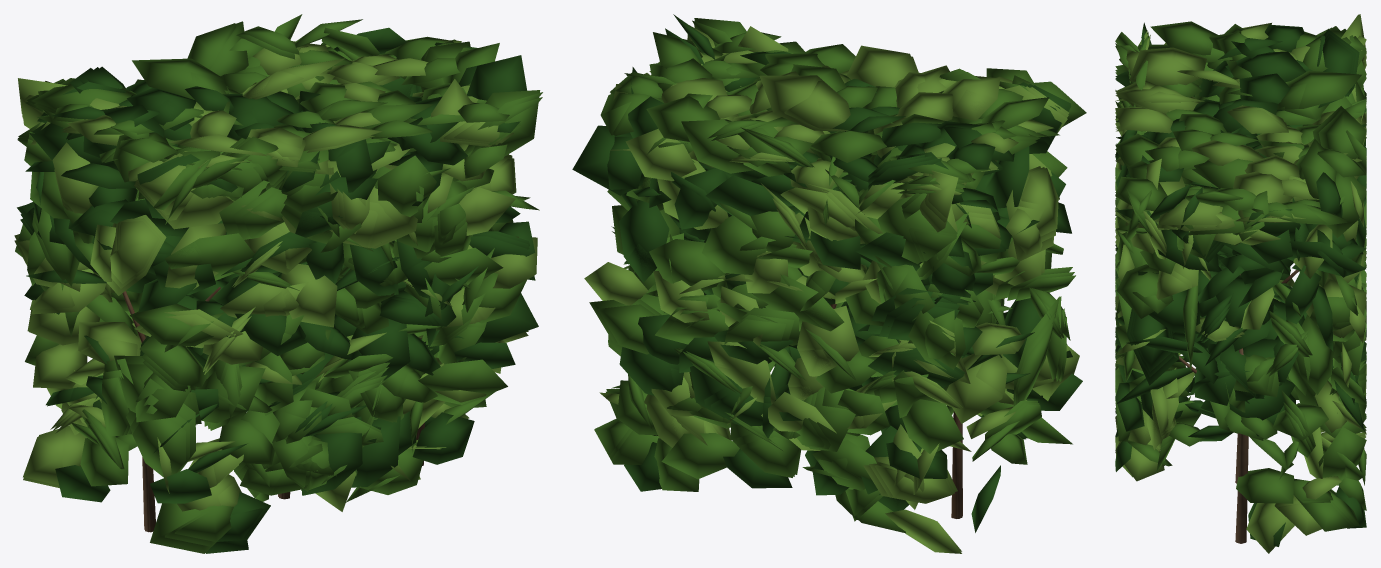
The model's file is MV_Hedge_End_1m.fbx.
The picture shows the model from 3 angles, left to right: view 1: azimuth 30°, elevation 25°; view 2: azimuth 150°, elevation 25°; view 3: azimuth 270°, elevation 25°; orthographic projection. The views are drawn at different scales.
Parts seen in each view (by area): view 1: LOD0_Mesh, LOD1_Mesh, LOD2_Mesh; view 2: LOD0_Mesh, LOD1_Mesh, LOD2_Mesh; view 3: LOD0_Mesh, LOD1_Mesh, LOD2_Mesh.
Boxes of the visible parts, bbox=[...] form: LOD0_Mesh: bbox=[14, 14, 542, 553]; LOD1_Mesh: bbox=[14, 21, 542, 546]; LOD2_Mesh: bbox=[18, 58, 538, 553]; LOD0_Mesh: bbox=[584, 14, 1086, 551]; LOD1_Mesh: bbox=[589, 18, 1086, 553]; LOD2_Mesh: bbox=[572, 41, 1072, 510]; LOD0_Mesh: bbox=[1115, 14, 1366, 553]; LOD1_Mesh: bbox=[1115, 14, 1366, 542]; LOD2_Mesh: bbox=[1115, 14, 1366, 531].
Size of the model in its own units: 1 by 1 by 0.6.
